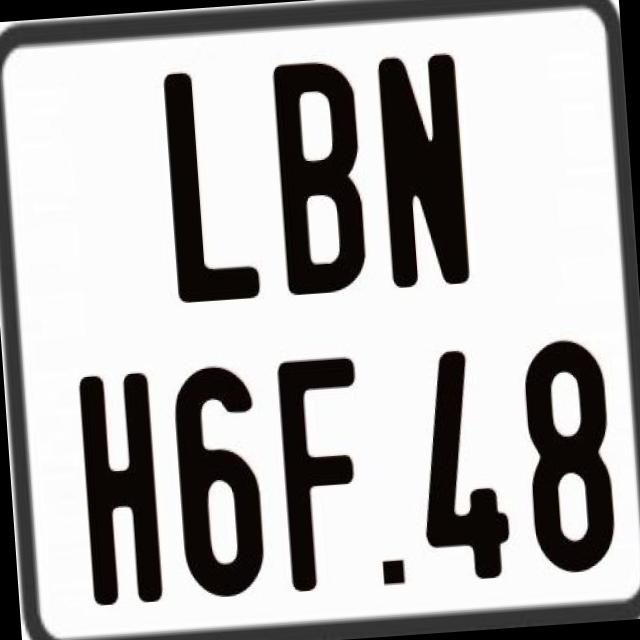4: (409, 346, 509, 582)
6: (170, 360, 272, 602)
8: (520, 336, 616, 576)
B: (272, 54, 368, 298)
F: (272, 356, 374, 598)
H: (75, 370, 165, 610)
L: (158, 64, 260, 306)
N: (375, 51, 470, 288)
